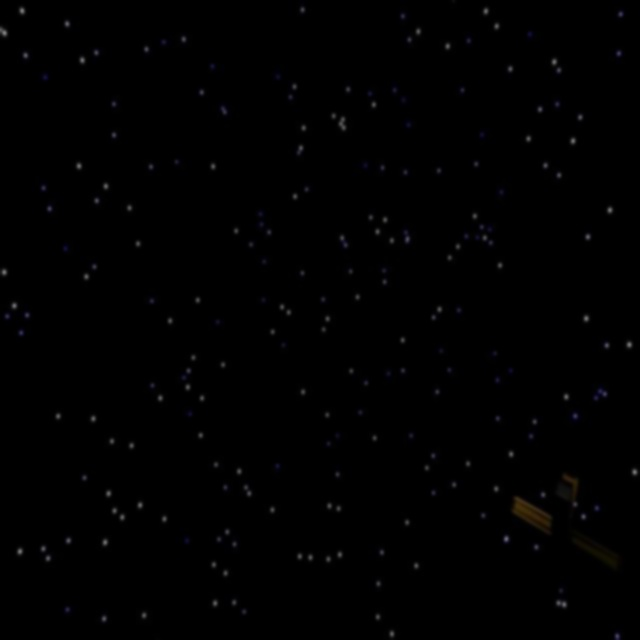satellite: (508, 468, 620, 585)
